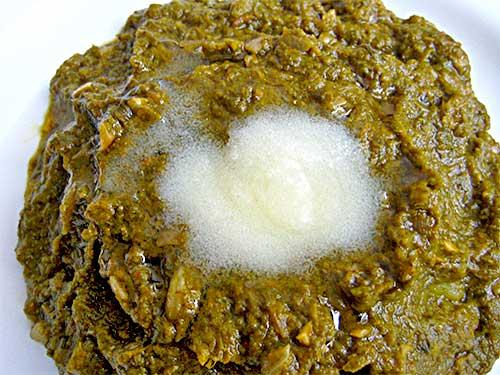saag: (16, 7, 500, 375)
